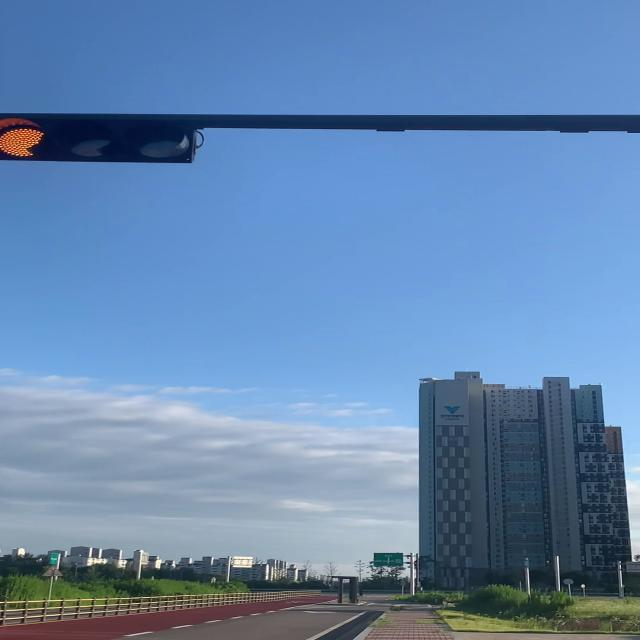yellow_light: (0, 120, 199, 163)
